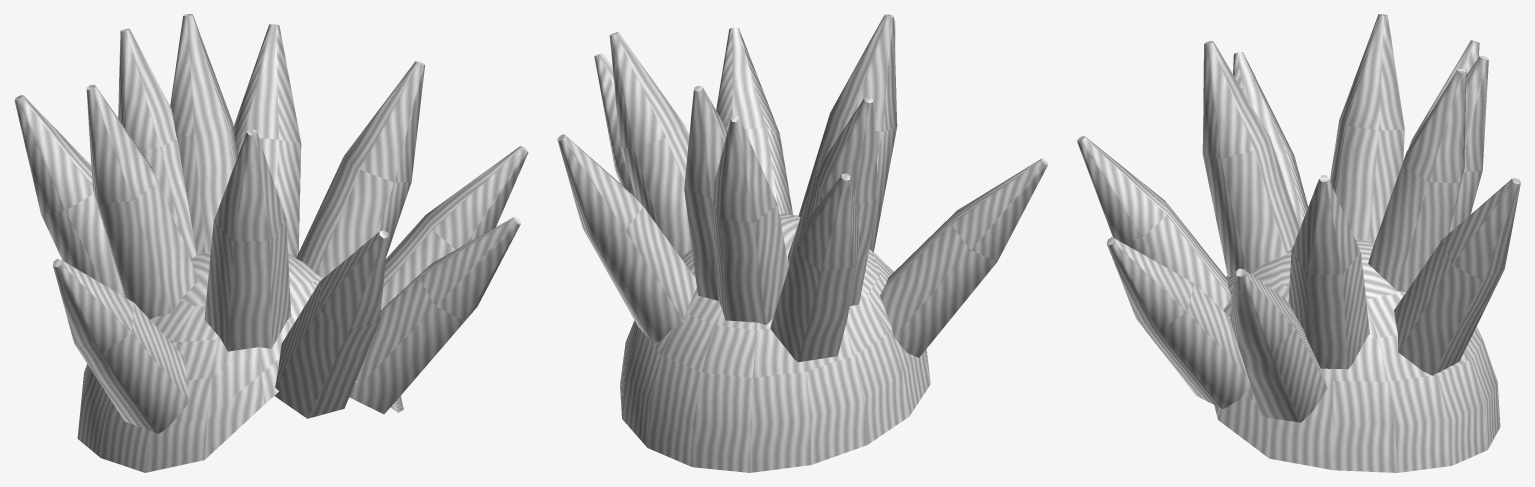
Rendered from hair_spiky.glb.
3 renders of one model, left to right at view 1: azimuth 30°, elevation 25°; view 2: azimuth 150°, elevation 25°; view 3: azimuth 270°, elevation 25°, orthographic. The views are drawn at different scales.
Visible parts, largest first — view 1: hair_spiky; view 2: hair_spiky; view 3: hair_spiky.
Part boxes in pixels (x1,y1,x2,y2): hair_spiky: (14, 14, 528, 472); hair_spiky: (557, 14, 1048, 472); hair_spiky: (1077, 14, 1520, 472).
Size of the model in its own units: 0.4224 by 0.323 by 0.3573.
1 material, 1 textured.
